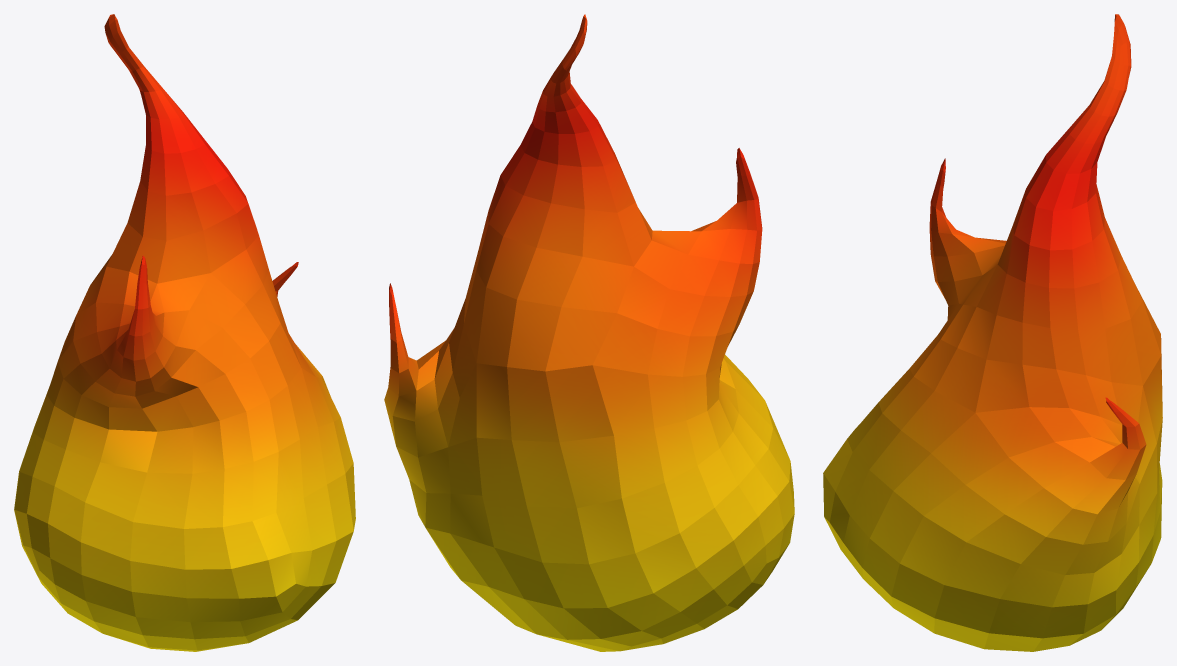
The model's file is fire.dae.
3 views of the same model, side by side, from view 1: azimuth 30°, elevation 25°; view 2: azimuth 150°, elevation 25°; view 3: azimuth 270°, elevation 25° (orthographic). The views are drawn at different scales.
Parts seen in each view (by area): view 1: fire3:Group20972; view 2: fire3:Group20972; view 3: fire3:Group20972.
Part boxes in pixels (x1=…): fire3:Group20972: x1=14, y1=14, x2=355, y2=651; fire3:Group20972: x1=384, y1=14, x2=794, y2=651; fire3:Group20972: x1=823, y1=14, x2=1162, y2=651.
Size of the model in its own units: 0.00299 by 0.00277 by 0.00545.
Materials: 1 (1 with a texture image).
